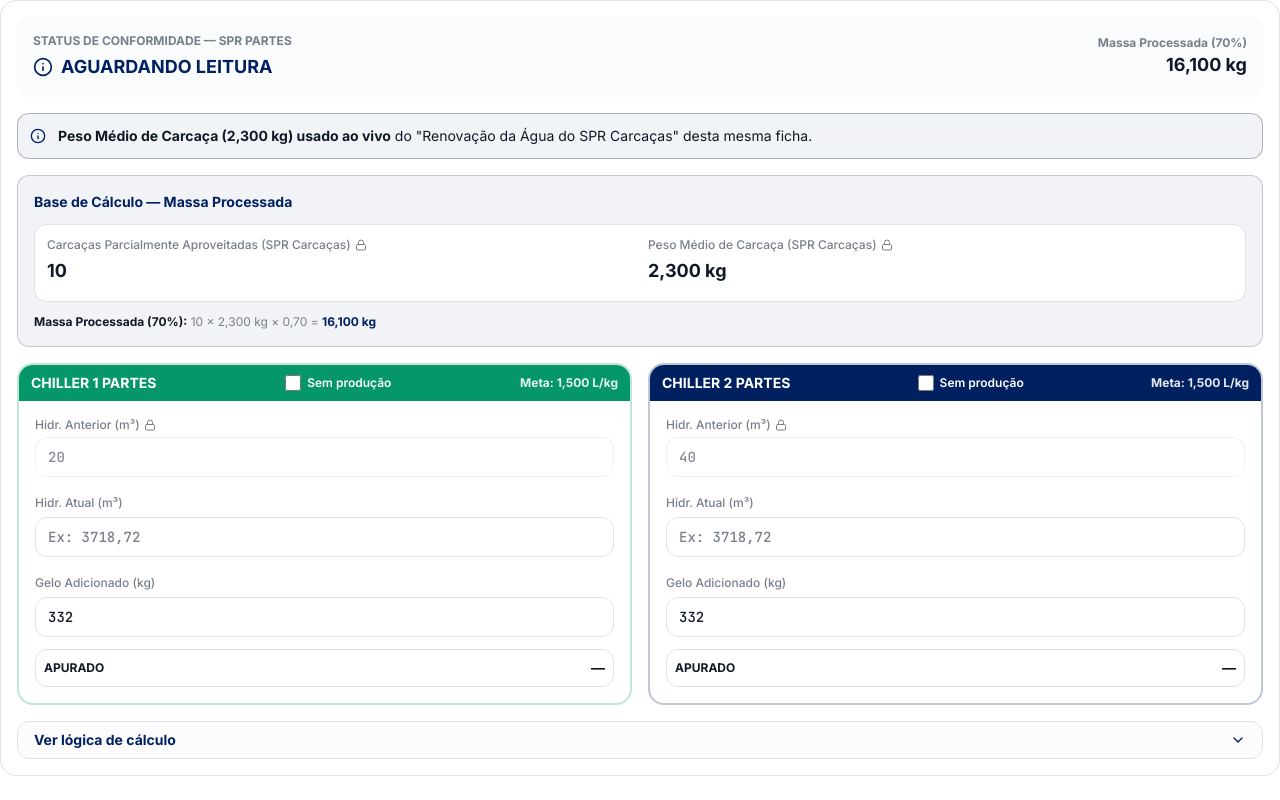
Scenario: Sem produção por tanque › Partes: marcar o chiller 2 esconde os campos dele, descarta a leitura e grava a marca
Expected: the text "Hidr. Atual (m³)" is shown 2 times, top-left (35, 495), bottom-right (123, 510); top-left (666, 495), bottom-right (754, 510)
Click the checkbox with test id "sem-producao-chiller2".
click(926, 383)  # box top-left (918, 375), bottom-right (934, 391)
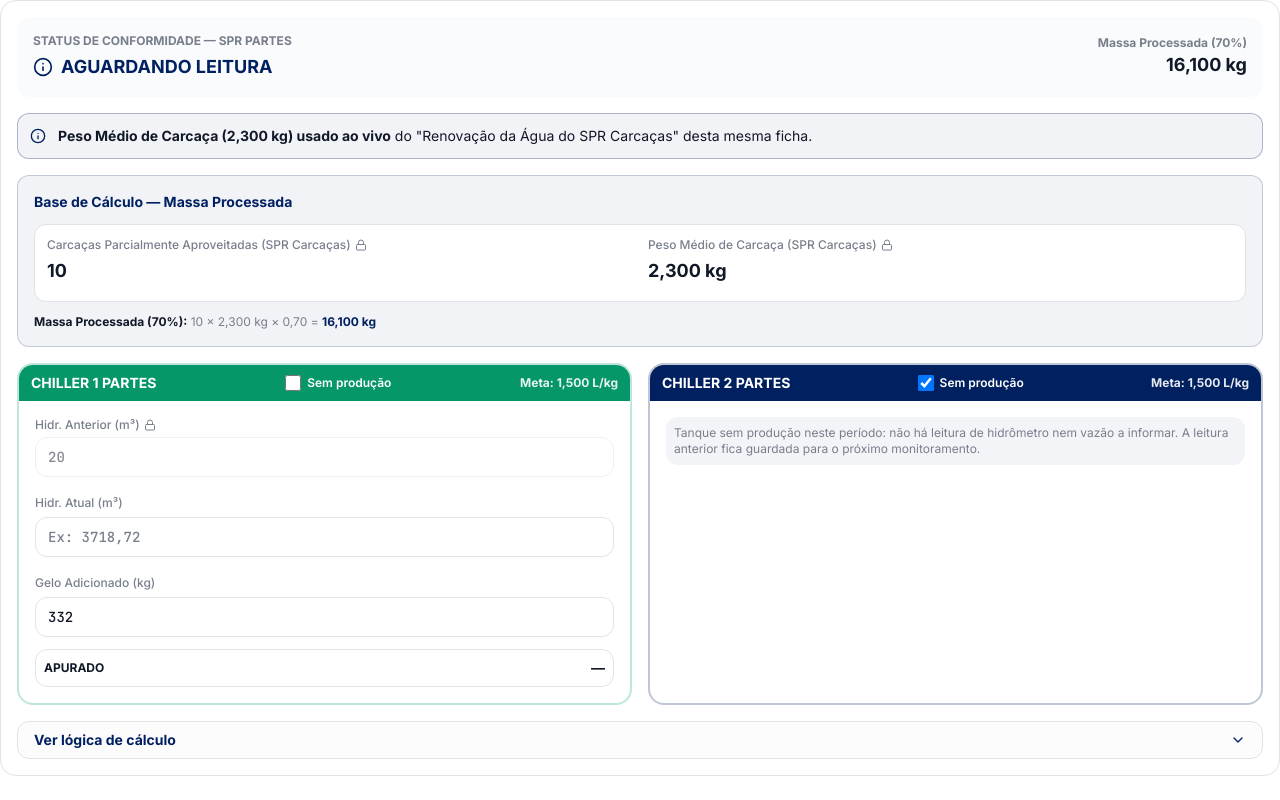
Expected: the text "Hidr. Atual (m³)" is shown once, top-left (35, 495), bottom-right (123, 510)
Now the text with test id "aviso-sem-producao" is shown, box top-left (666, 417), bottom-right (1245, 465)
